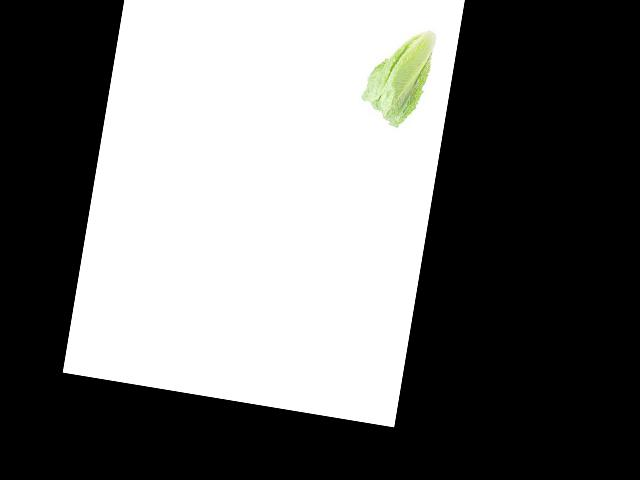lettuce: (349, 29, 456, 150)
